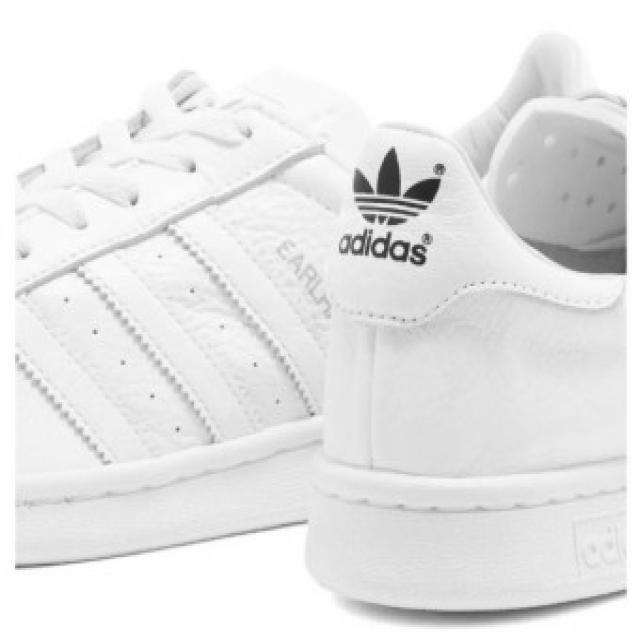Adidas: (350, 147, 446, 230)
